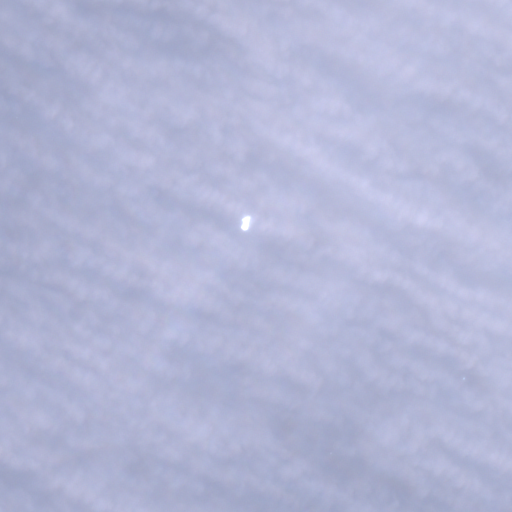Iceberg: (241, 216, 250, 230)
